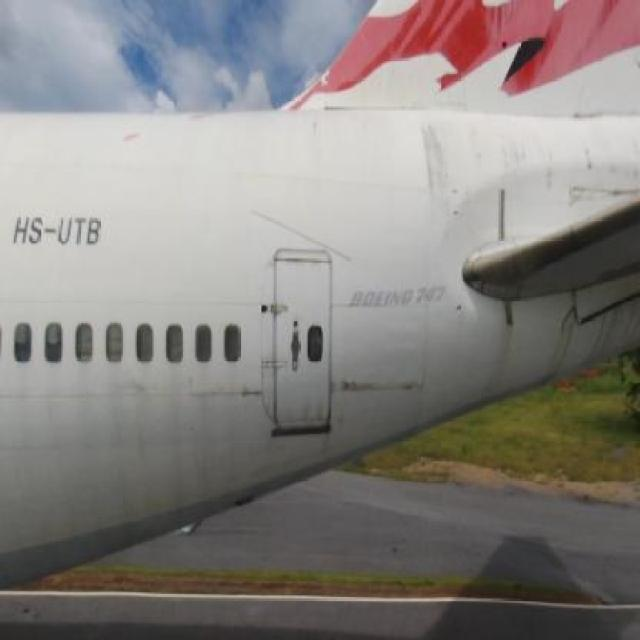Rust: (491, 114, 640, 188), (409, 107, 486, 241), (546, 283, 640, 374), (479, 293, 532, 398), (331, 362, 378, 407), (269, 248, 337, 275), (234, 377, 272, 412), (394, 368, 426, 402), (302, 108, 328, 138)
Scartch: (120, 368, 178, 475), (244, 432, 304, 486), (314, 411, 364, 463)
